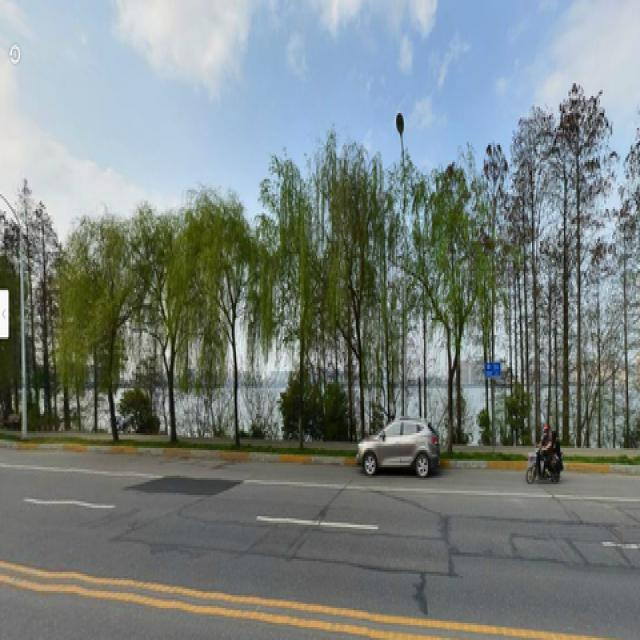plat: (177, 179, 272, 435)
